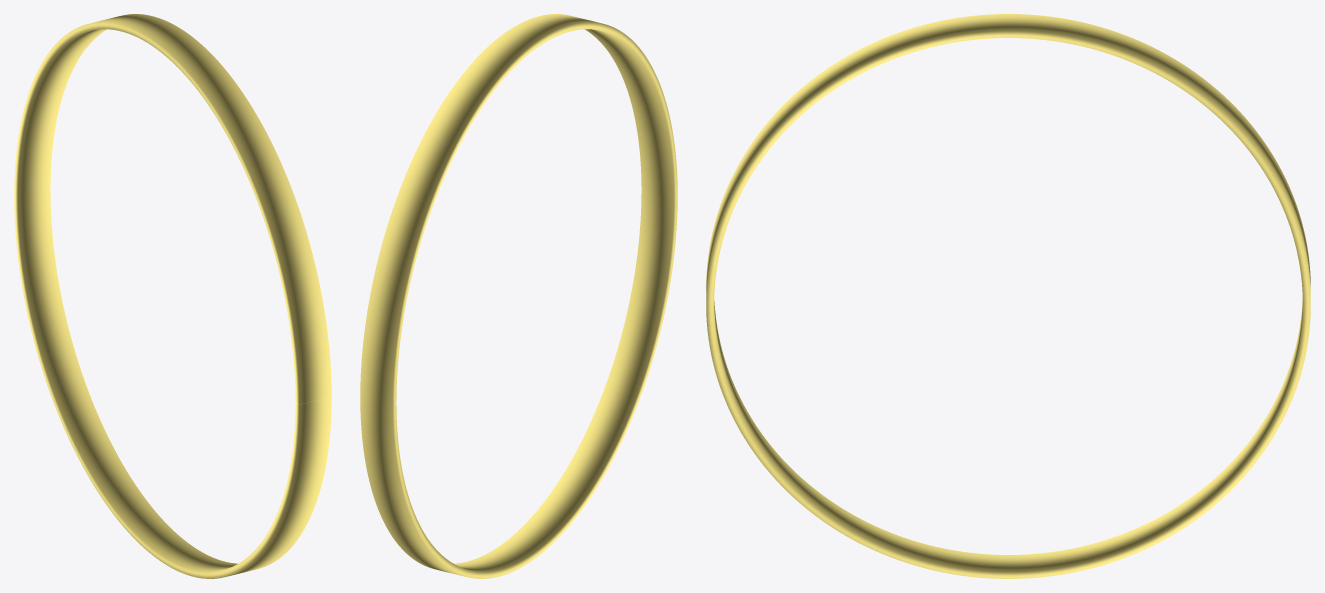
Rendered from coil_coil_3_tube.gltf.
The picture shows the model from 3 angles, left to right: view 1: azimuth 30°, elevation 25°; view 2: azimuth 150°, elevation 25°; view 3: azimuth 270°, elevation 25°; orthographic projection. The views are drawn at different scales.
Visible parts, largest first — view 1: Renderer Node; view 2: Renderer Node; view 3: Renderer Node.
Boxes of the visible parts, x1,y1,x2,y2 form: Renderer Node: (14,14,331,578); Renderer Node: (360,14,677,578); Renderer Node: (706,14,1310,578).
Size of the model in its own units: 0.0406 by 0.608 by 0.608.
